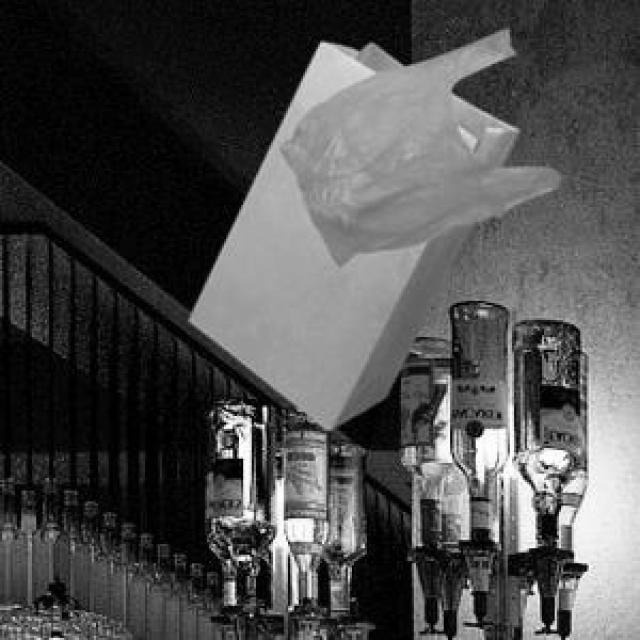paper: (186, 38, 514, 425)
